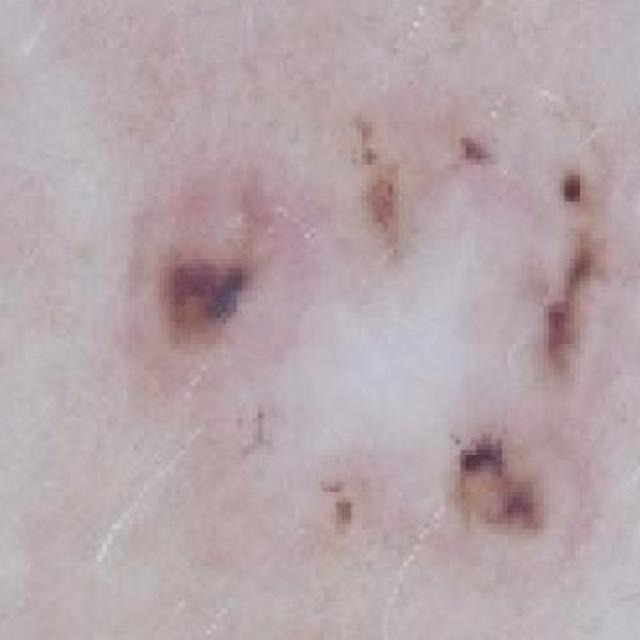BCC: (98, 57, 608, 624)
